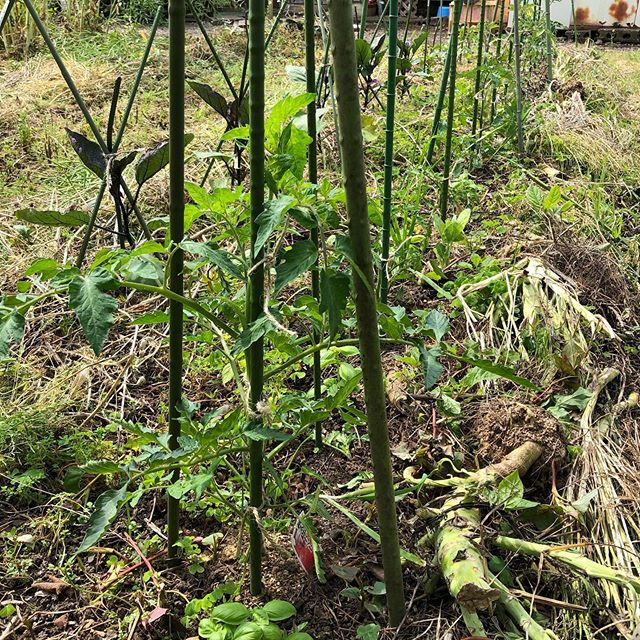vegetation: (17, 1, 635, 640)
